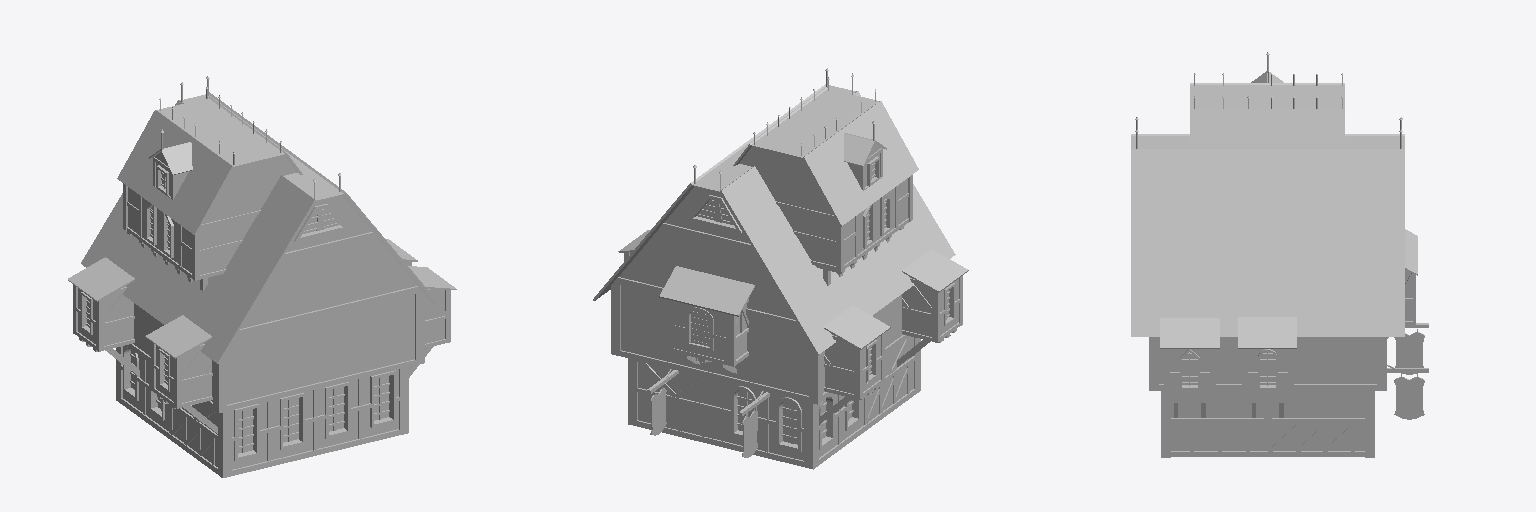
Rendered from dwelling.obj.
3 renders of one model, left to right at view 1: azimuth 30°, elevation 25°; view 2: azimuth 150°, elevation 25°; view 3: azimuth 270°, elevation 25°, orthographic.
Visible parts, largest first — view 1: node_304_013_Mesh.068, node_304_015_Mesh.066, node_304_009_Mesh.072, node_304_011_Mesh.070, node_304_017_Mesh.064, node_304_018_Mesh.063, node_304_014_Mesh.067, node_304_004_Mesh.077, node_304_016_Mesh.065, node_304_019_Mesh.062, node_304_008_Mesh.073, node_304_005_Mesh.076 (+5 smaller); view 2: node_304_015_Mesh.066, node_304_013_Mesh.068, node_304_009_Mesh.072, node_304_021_Mesh.043, node_304_018_Mesh.063, node_304_017_Mesh.064, node_304_011_Mesh.070, node_304_014_Mesh.067, node_304_019_Mesh.062, node_304_008_Mesh.073, node_304_004_Mesh.077, node_304_016_Mesh.065 (+8 smaller); view 3: node_304_015_Mesh.066, node_304_009_Mesh.072, node_304_018_Mesh.063, node_304_013_Mesh.068, node_304_016_Mesh.065, node_304_014_Mesh.067, node_304_004_Mesh.077, node_304_012_Mesh.069, node_304_017_Mesh.064, Cube606_002_Mesh.061, node_304_011_Mesh.070, node_304_021_Mesh.043 (+2 smaller).
Part boxes in pixels (x1,y1,x2,y2): node_304_013_Mesh.068: (133, 237, 416, 404); node_304_015_Mesh.066: (81, 94, 439, 362); node_304_009_Mesh.072: (117, 96, 302, 235); node_304_011_Mesh.070: (123, 345, 395, 464); node_304_017_Mesh.064: (126, 204, 424, 413); node_304_018_Mesh.063: (123, 346, 398, 469); node_304_014_Mesh.067: (116, 346, 408, 477); node_304_004_Mesh.077: (73, 261, 450, 433); node_304_016_Mesh.065: (68, 239, 456, 358); node_304_019_Mesh.062: (128, 155, 296, 272); node_304_008_Mesh.073: (123, 157, 260, 290); node_304_005_Mesh.076: (128, 152, 256, 274); node_304_015_Mesh.066: (595, 85, 955, 353); node_304_013_Mesh.068: (619, 228, 902, 395); node_304_009_Mesh.072: (733, 87, 918, 226); node_304_021_Mesh.043: (659, 266, 754, 373); node_304_018_Mesh.063: (638, 337, 913, 460); node_304_017_Mesh.064: (611, 195, 910, 404); node_304_011_Mesh.070: (637, 337, 910, 452); node_304_014_Mesh.067: (628, 337, 920, 469); node_304_019_Mesh.062: (739, 147, 907, 264); node_304_008_Mesh.073: (776, 148, 912, 285); node_304_004_Mesh.077: (624, 252, 962, 423); node_304_016_Mesh.065: (618, 230, 968, 349); node_304_015_Mesh.066: (1131, 136, 1404, 336); node_304_009_Mesh.072: (1190, 71, 1344, 143); node_304_018_Mesh.063: (1171, 391, 1364, 450); node_304_013_Mesh.068: (1159, 337, 1376, 383); node_304_016_Mesh.065: (1160, 317, 1296, 348); node_304_014_Mesh.067: (1161, 391, 1374, 457); node_304_004_Mesh.077: (1164, 349, 1293, 417); node_304_012_Mesh.069: (1170, 349, 1287, 395); node_304_017_Mesh.064: (1149, 337, 1386, 390); Cube606_002_Mesh.061: (1387, 365, 1428, 419); node_304_011_Mesh.070: (1190, 400, 1354, 451); node_304_021_Mesh.043: (1387, 229, 1417, 338).
Size of the model in its own units: 8 by 8.48 by 7.33.